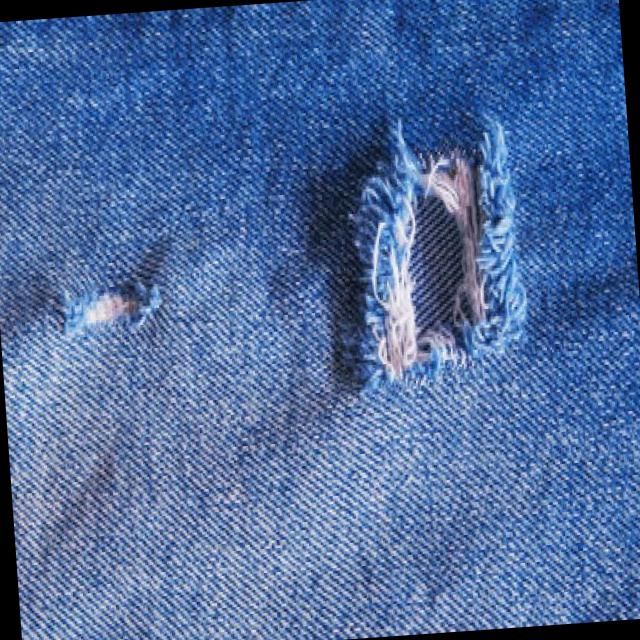hole: (362, 142, 520, 383), (56, 272, 158, 338)
